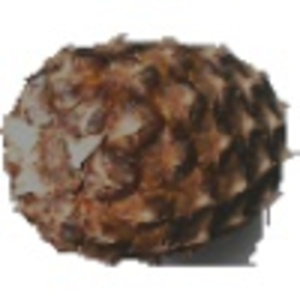abacaxi: (12, 28, 295, 255)
